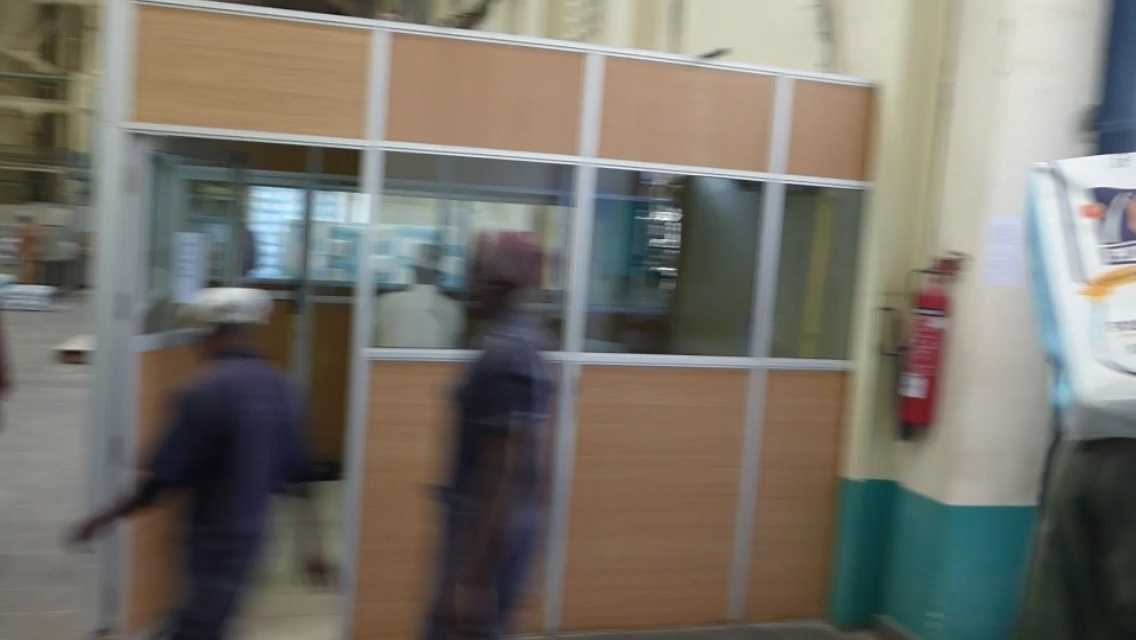wheat_flour_blue_label: (1027, 152, 1136, 443)
